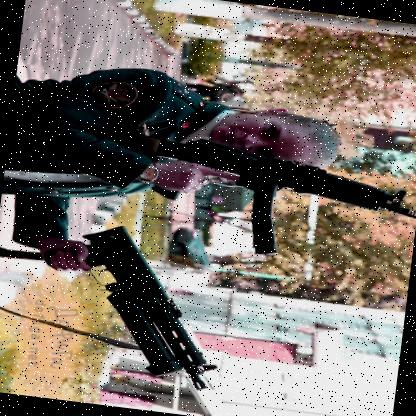rifle: (92, 119, 416, 269), (26, 213, 239, 399)
